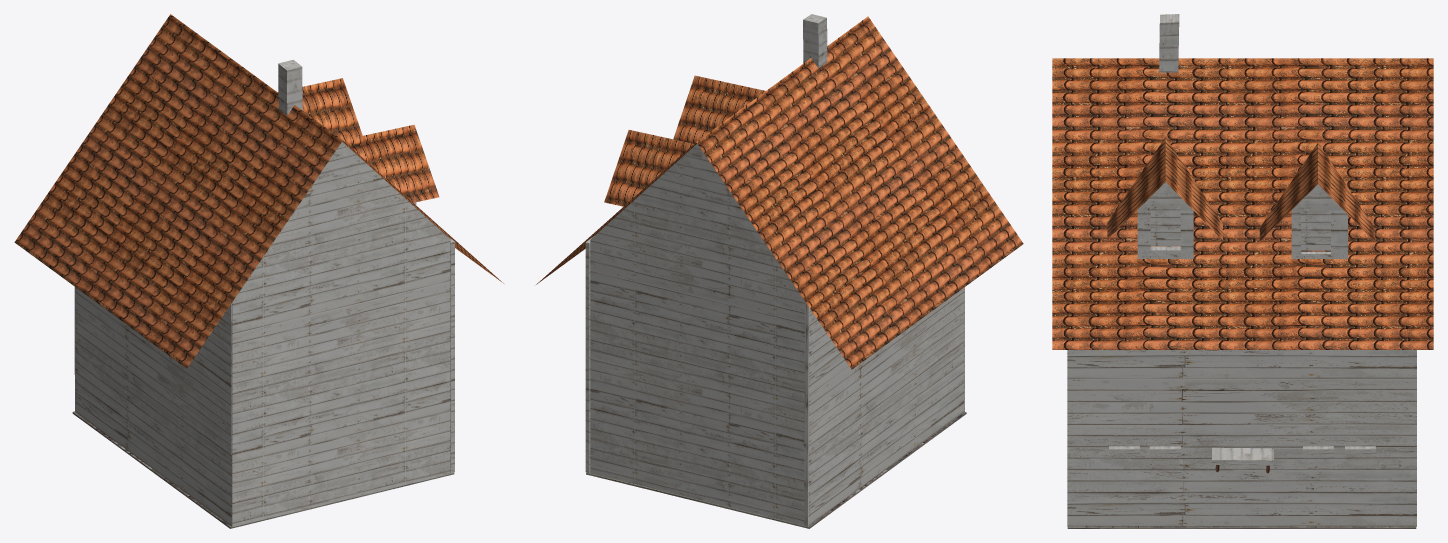
File: Casa.obj
3 renders of one model, left to right at view 1: azimuth 30°, elevation 25°; view 2: azimuth 150°, elevation 25°; view 3: azimuth 270°, elevation 25°, orthographic. The views are drawn at different scales.
Visible parts, largest first — view 1: group33_pasted__group31_pasted__pasted__group12_pasted__pasted__; view 2: group33_pasted__group31_pasted__pasted__group12_pasted__pasted__; view 3: group33_pasted__group31_pasted__pasted__group12_pasted__pasted__.
Boxes of the visible parts, x1=… form: group33_pasted__group31_pasted__pasted__group12_pasted__pasted__: x1=14, y1=14, x2=503, y2=528; group33_pasted__group31_pasted__pasted__group12_pasted__pasted__: x1=536, y1=14, x2=1023, y2=528; group33_pasted__group31_pasted__pasted__group12_pasted__pasted__: x1=1052, y1=14, x2=1433, y2=528.
Bounding box in the file's own units: 34.75 × 42.21 × 32.59.
Materials: 7 (6 with a texture image).
